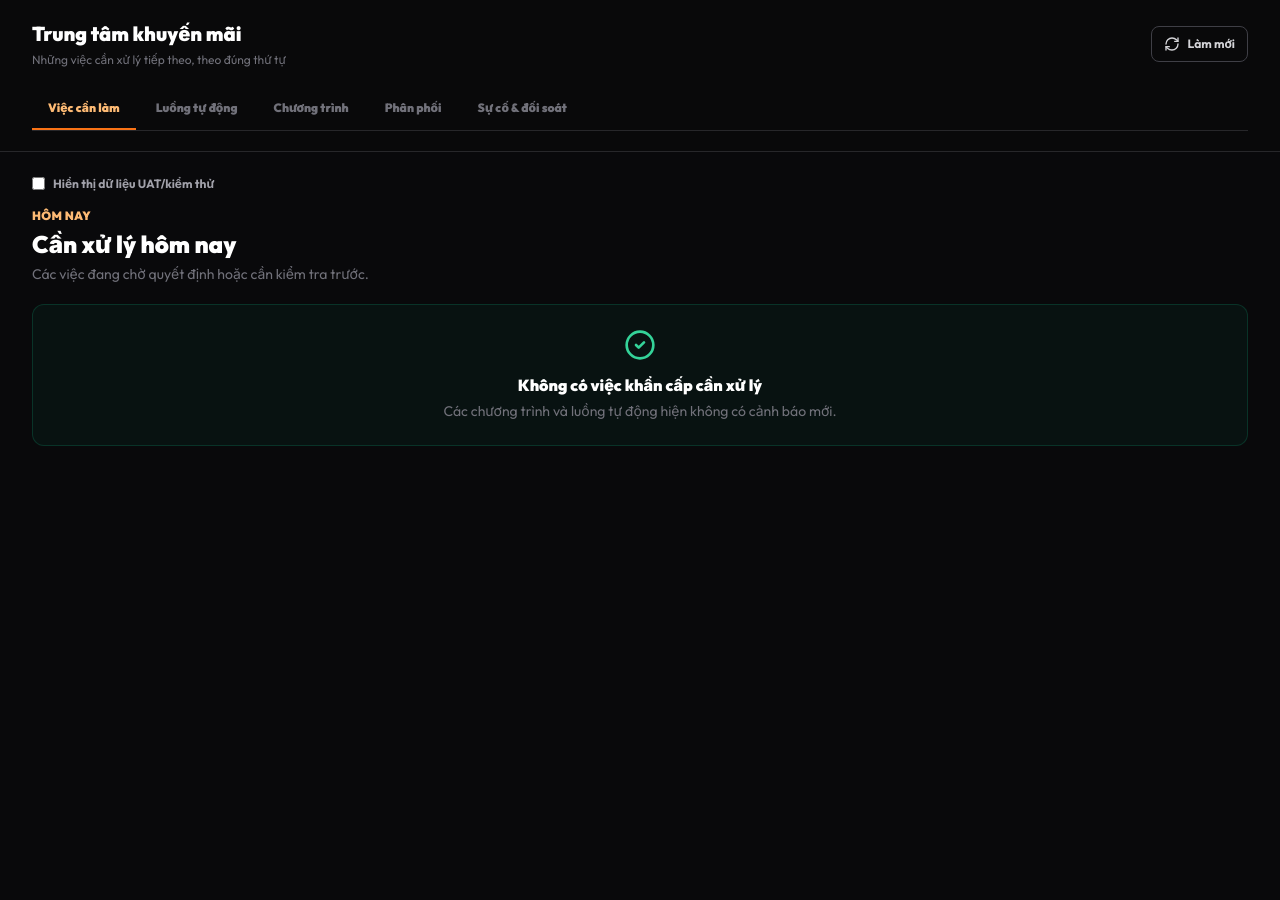
Scenario: AdminPromotionCenterPage › starts authoring from four customer delivery choices without technical fields
Click the button "Chương trình".
click(311, 109)  # box left=258, top=88, right=365, bottom=130
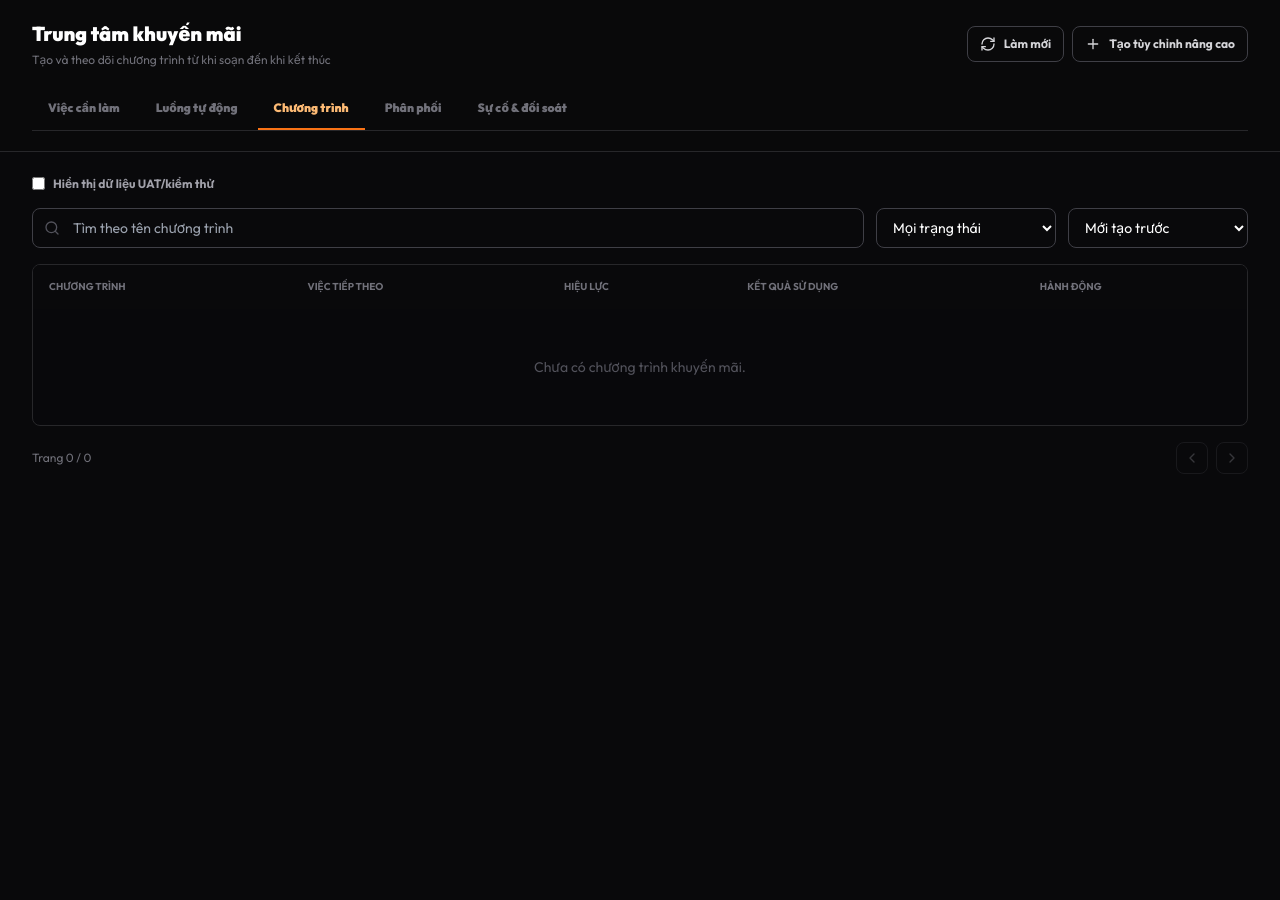
Click the button "Tạo tùy chỉnh nâng cao".
click(1160, 44)  # box left=1072, top=26, right=1248, bottom=62
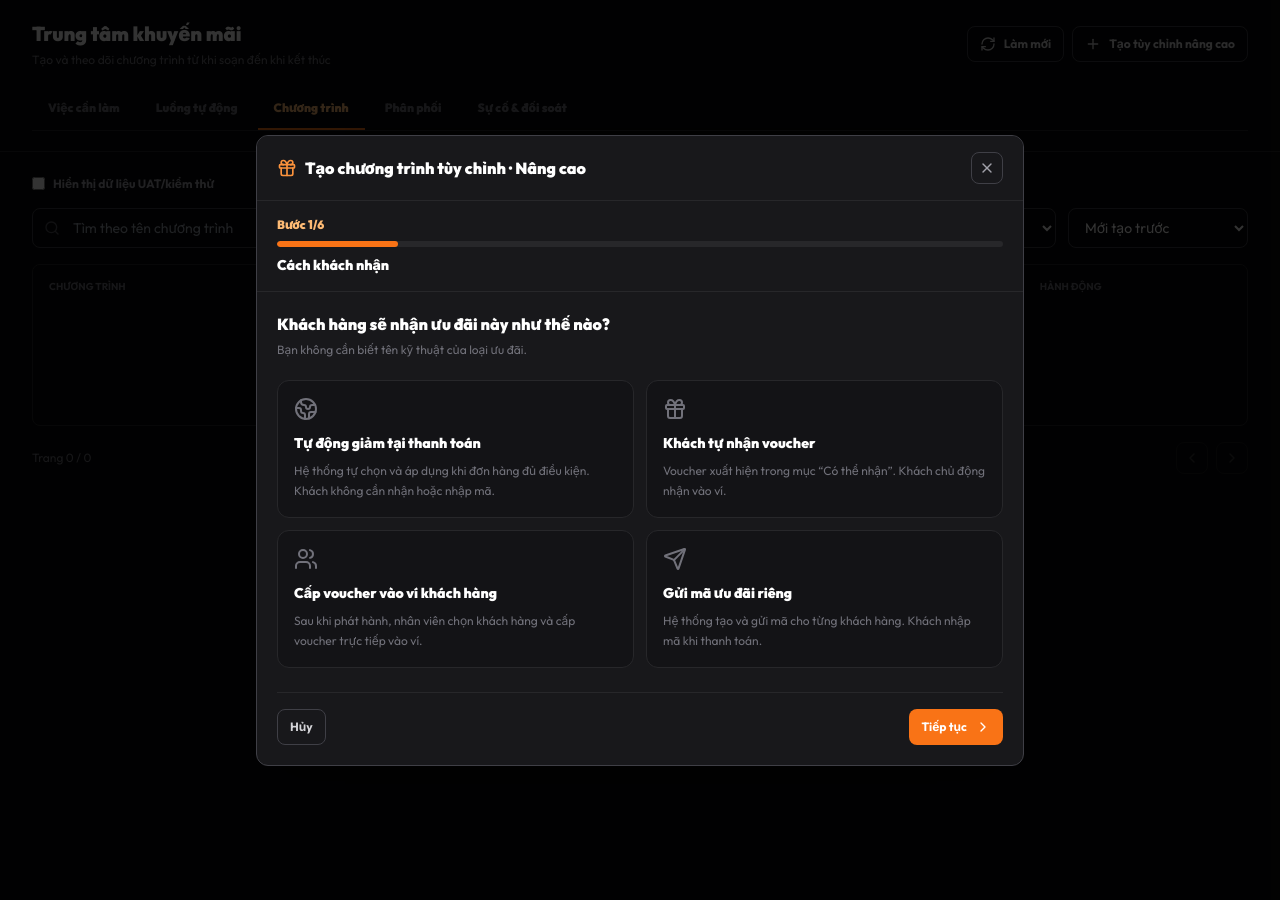
Now the heading "Khách hàng sẽ nhận ưu đãi này như thế nào?" is shown, box left=277, top=314, right=610, bottom=334
Now the button "Tự động giảm tại thanh toán" is shown, box left=277, top=380, right=634, bottom=518
Now the button "Khách tự nhận voucher" is shown, box left=646, top=380, right=1003, bottom=518
